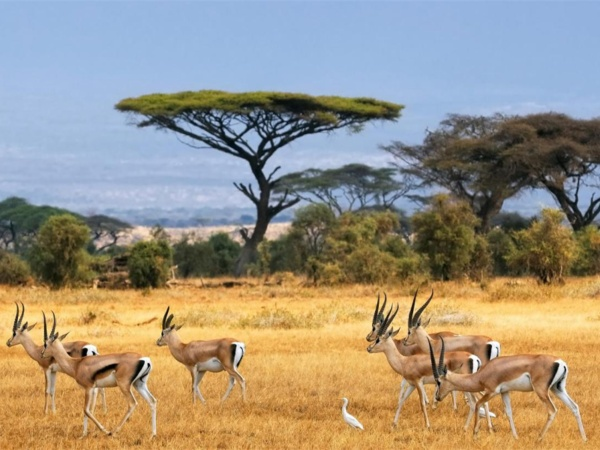bird: (335, 394, 366, 432)
impala: (420, 331, 590, 443), (363, 302, 497, 434), (34, 308, 160, 438), (2, 295, 105, 427), (363, 287, 476, 384), (154, 303, 256, 408), (402, 283, 512, 380)
